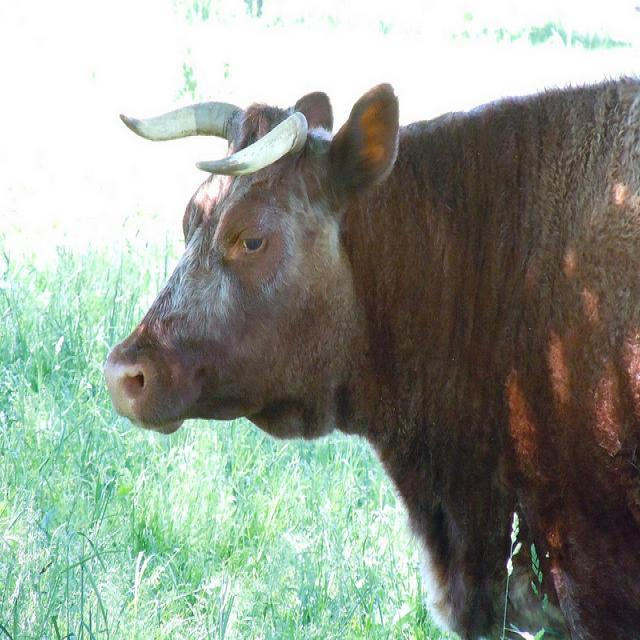cow: (104, 75, 635, 628)
